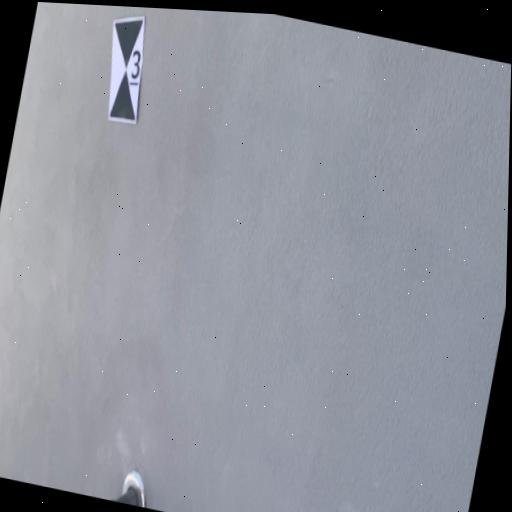target3: (107, 14, 146, 123)
